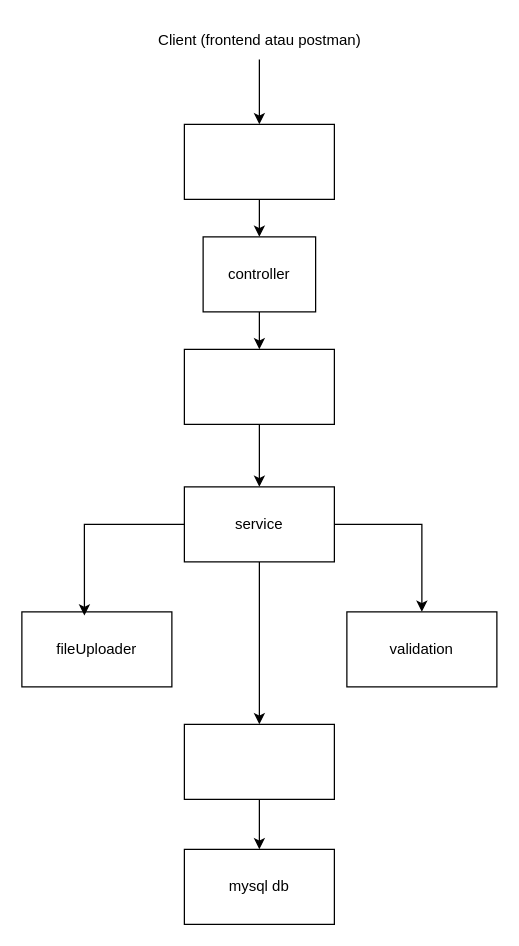
Some shapes in this 519 by 946 pixel diagram are drawn without their labels. Each missing label, with the centre of its shape:
gin router: the point at 258,161
repository: the point at 258,761
request handler: the point at 258,386
